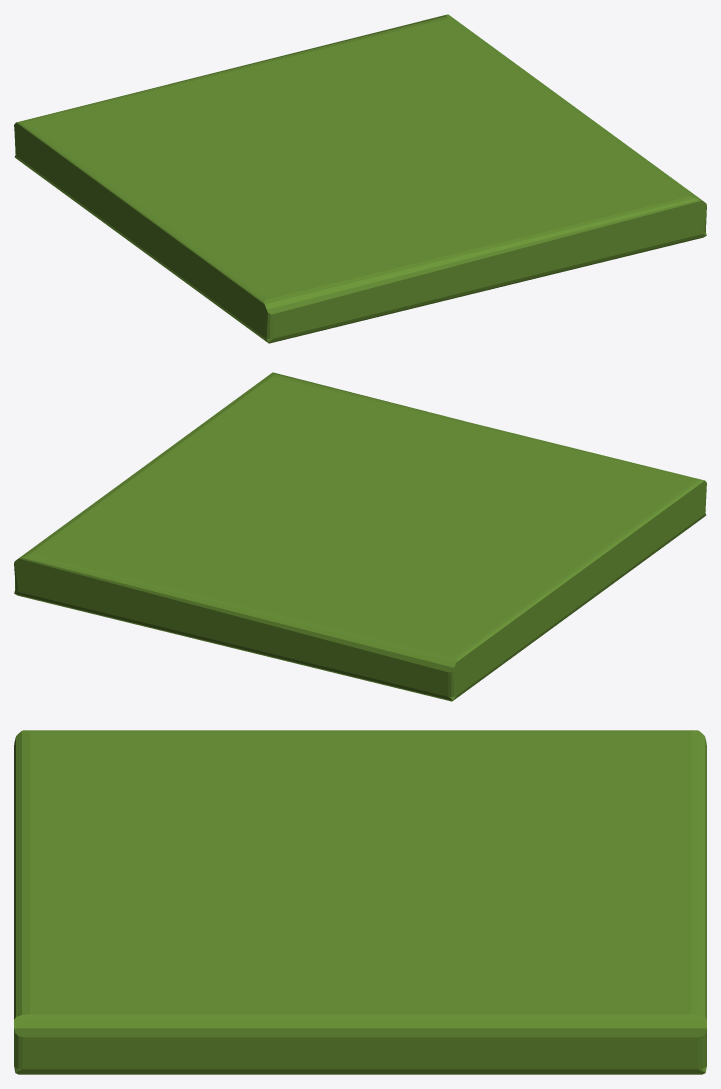
3 renders of one model, top to bottom at view 1: azimuth 30°, elevation 25°; view 2: azimuth 150°, elevation 25°; view 3: azimuth 270°, elevation 25°, orthographic. The views are drawn at different scales.
Visible parts, largest first — view 1: NodeTop; view 2: NodeTop; view 3: NodeTop.
Boxes of the visible parts, x1,y1,x2,y2 form: NodeTop: (14, 14, 706, 343); NodeTop: (14, 372, 706, 701); NodeTop: (14, 730, 706, 1074).
Size of the model in its own units: 2.22 by 2.22 by 0.2.
